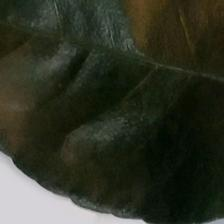healthy: (0, 0, 222, 222)
